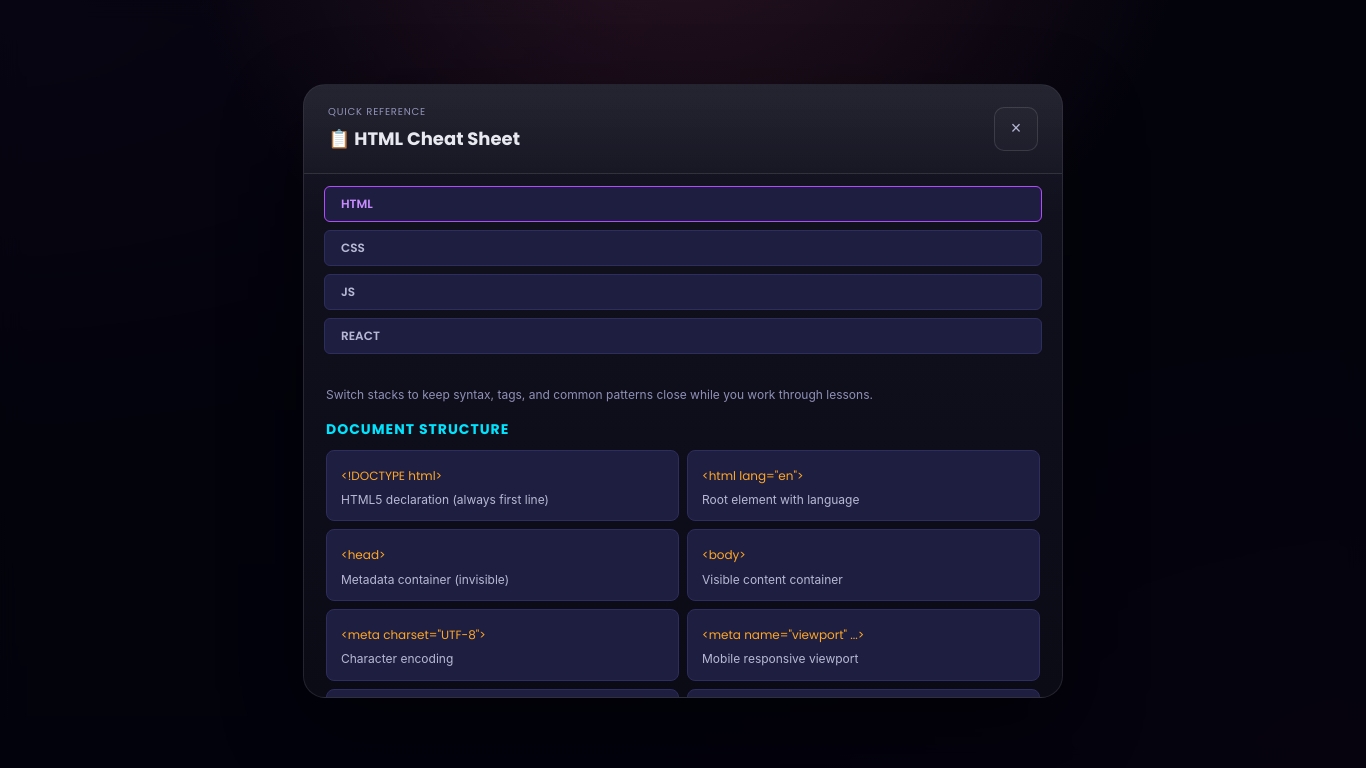
CheatsheetPanel › updates the selected reference track without closing the panel
What coordinates should you click on to do the following:
click the button with aria-label "show css cheat sheet"
I would click on:
 (353, 248)
Its box is [324,230,1042,266].
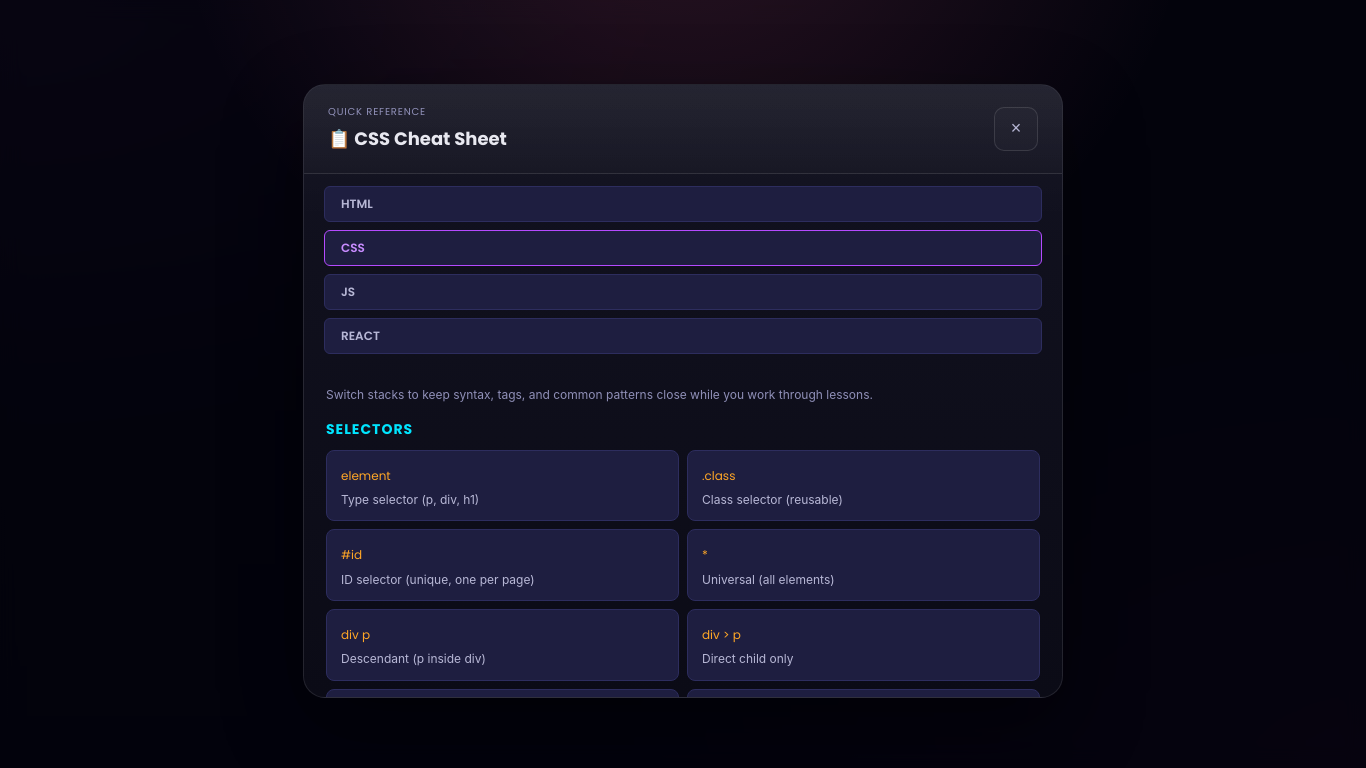
Expected: the element named "css cheat sheet content" is shown, [304,366,1062,698]
